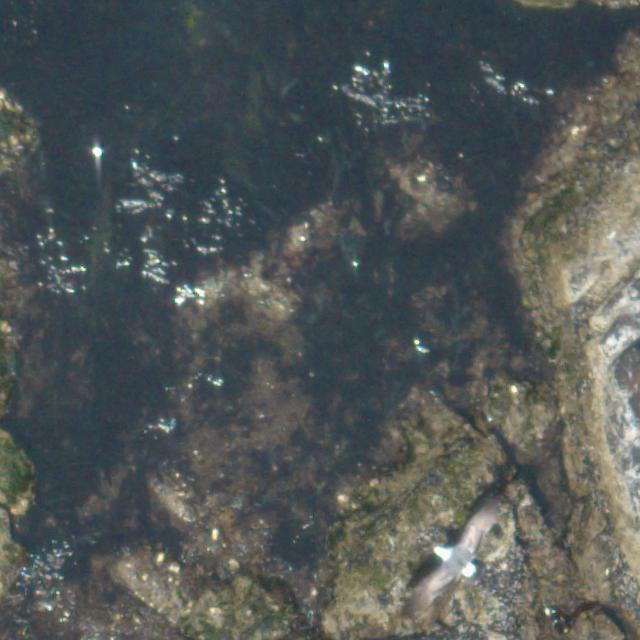F: (411, 503, 503, 605)
